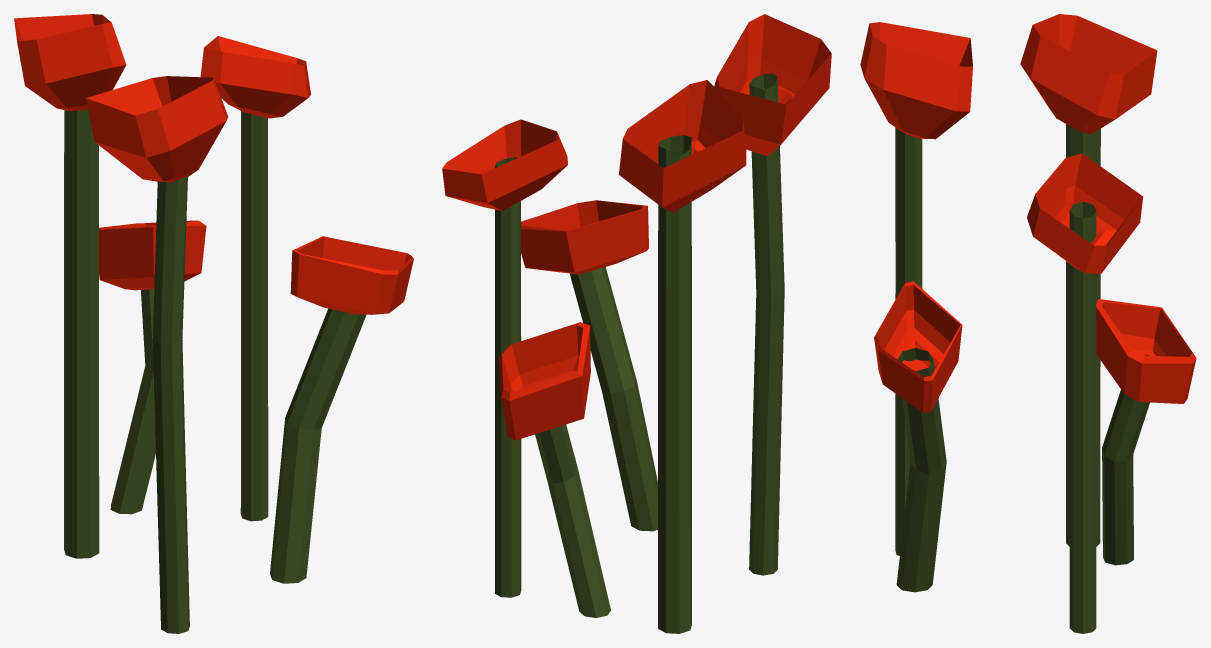
The model's file is Flower_7.fbx.
3 views of the same model, side by side, from view 1: azimuth 30°, elevation 25°; view 2: azimuth 150°, elevation 25°; view 3: azimuth 270°, elevation 25° (orthographic). The views are drawn at different scales.
Visible parts, largest first — view 1: Flower_7; view 2: Flower_7; view 3: Flower_7.
Boxes of the visible parts, x1=… form: Flower_7: x1=14, y1=14, x2=413, y2=633; Flower_7: x1=442, y1=14, x2=831, y2=633; Flower_7: x1=860, y1=14, x2=1196, y2=633.
Bounding box in the file's own units: 28.45 × 48.02 × 27.93.
